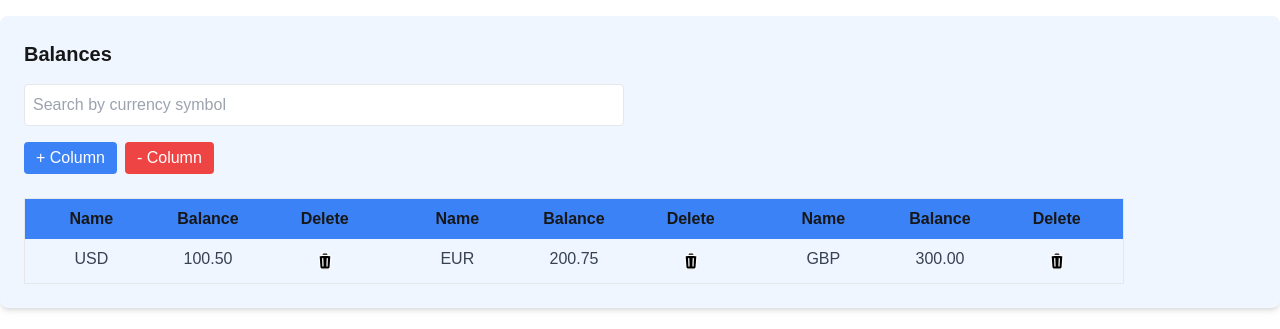
Test: BalanceTable Component › increments columns when + Column button is clicked
The image size is (1280, 329).
Step 1. Click the button "+ Column" → (70, 158), box [24,142,117,174]
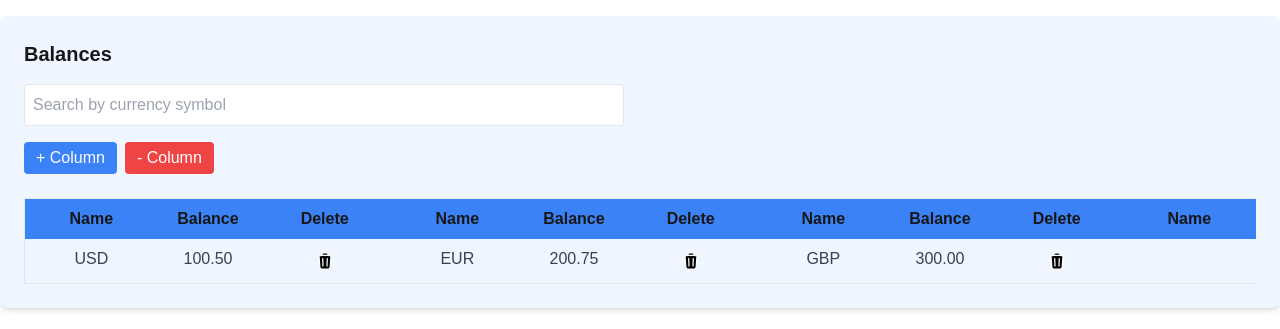
Check: the text "Name" is shown 4 times, box [70,210,113,227]; [436,210,479,227]; [802,210,845,227]; [1168,210,1211,227]
